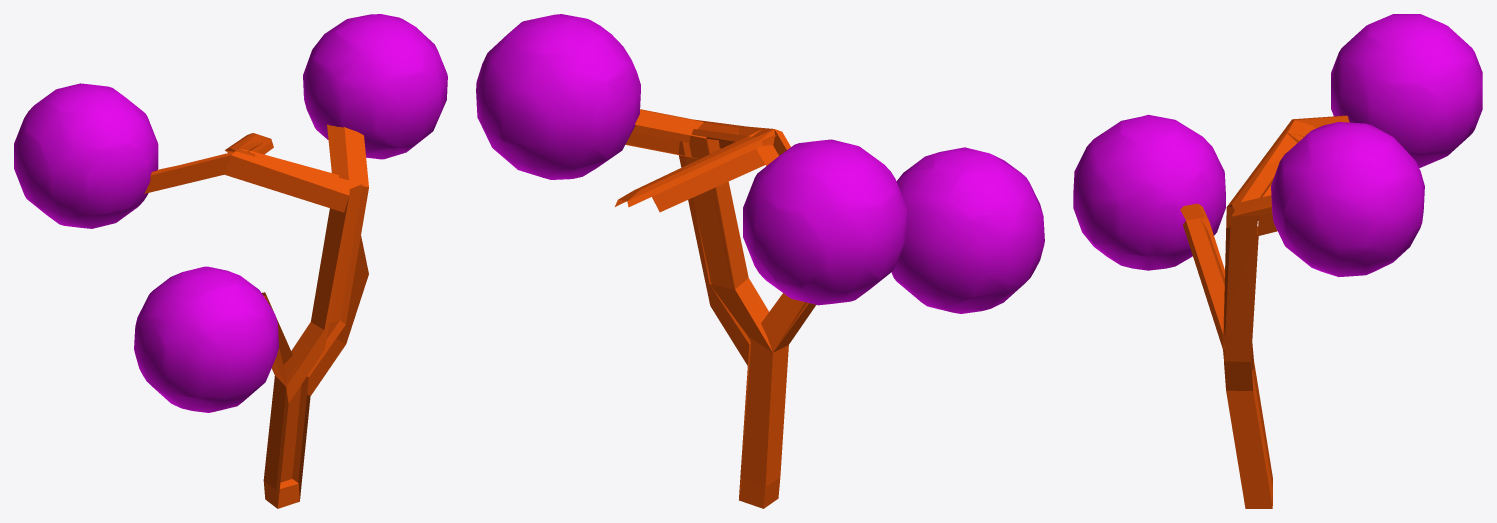
The model's file is Drzewo.fbx.
3 renders of one model, left to right at view 1: azimuth 30°, elevation 25°; view 2: azimuth 150°, elevation 25°; view 3: azimuth 270°, elevation 25°, orthographic. The views are drawn at different scales.
Parts seen in each view (by area): view 1: Mball, Kostka; view 2: Mball, Kostka; view 3: Mball, Kostka.
Boxes of the visible parts, x1,y1,x2,y2 form: Mball: (14, 14, 447, 412); Kostka: (144, 124, 368, 508); Mball: (476, 14, 1044, 313); Kostka: (615, 109, 815, 508); Mball: (1073, 14, 1482, 276); Kostka: (1180, 115, 1349, 508).
Bounding box in the file's own units: 3508 × 3615 × 3010.
